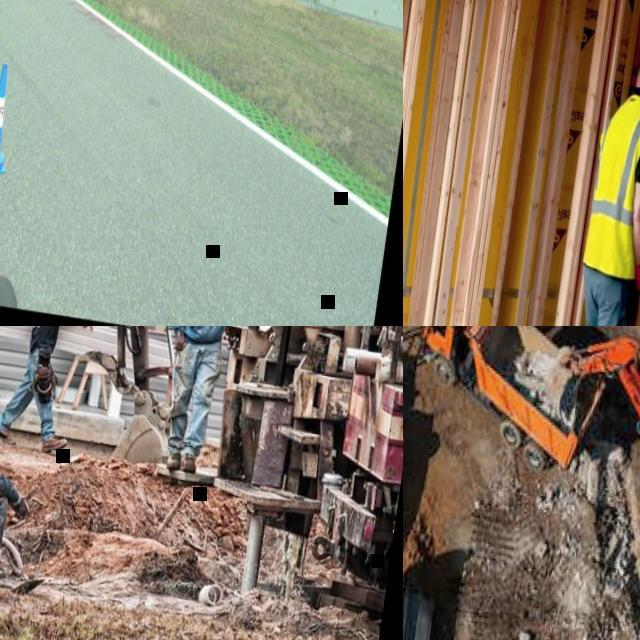vest: (582, 87, 640, 280)
